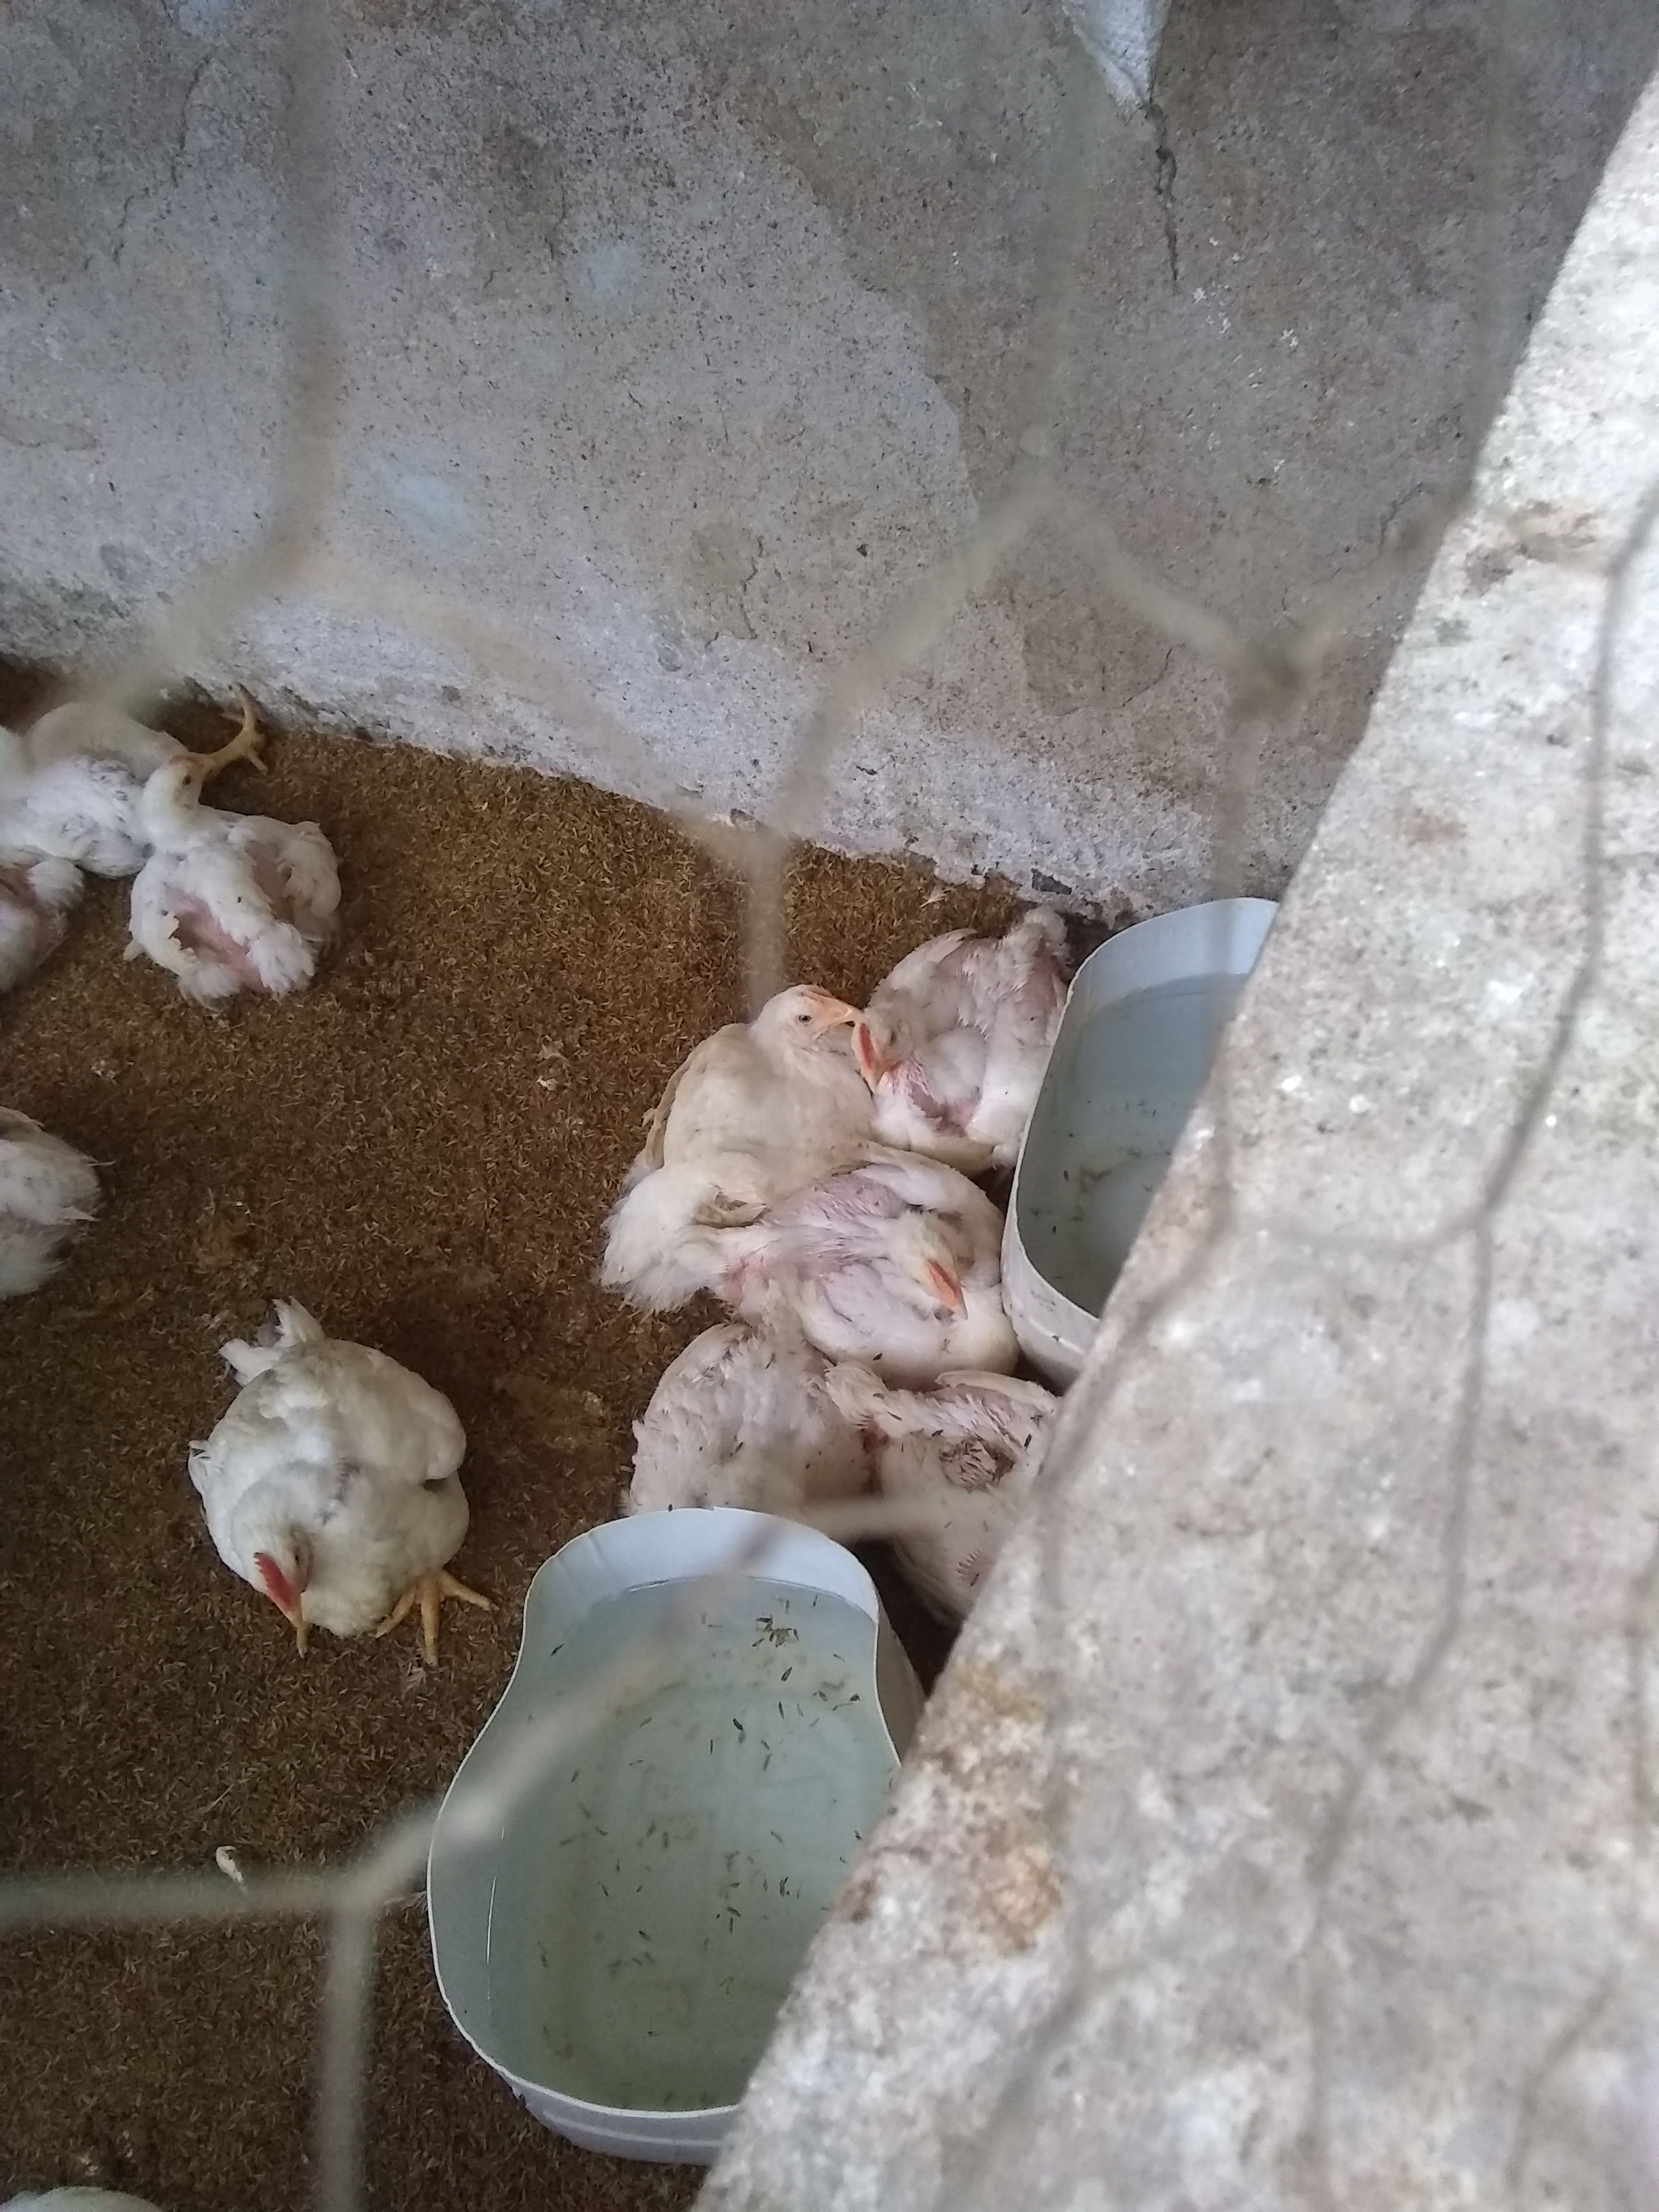Pollos: (200, 1278, 483, 1686), (756, 1151, 1063, 1372), (594, 1336, 866, 1585), (885, 860, 1107, 1160), (138, 737, 350, 1012), (627, 951, 884, 1177), (829, 1350, 1051, 1601), (31, 637, 153, 913), (0, 1101, 106, 1310)
